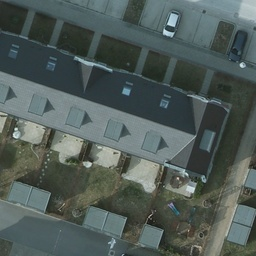car: (226, 32, 250, 63), (161, 9, 179, 39)
